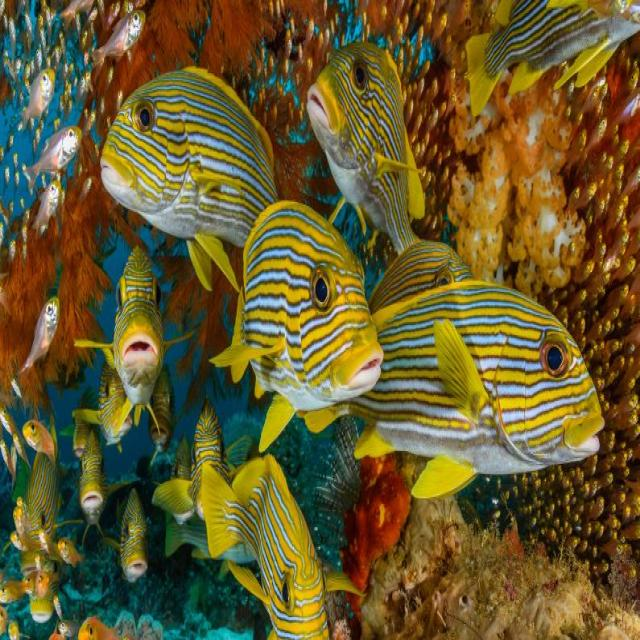RibbonedSweetlips: (304, 279, 604, 500), (210, 201, 384, 454), (102, 66, 280, 298), (201, 454, 364, 640), (305, 38, 426, 257), (74, 247, 193, 429), (465, 0, 639, 117)
